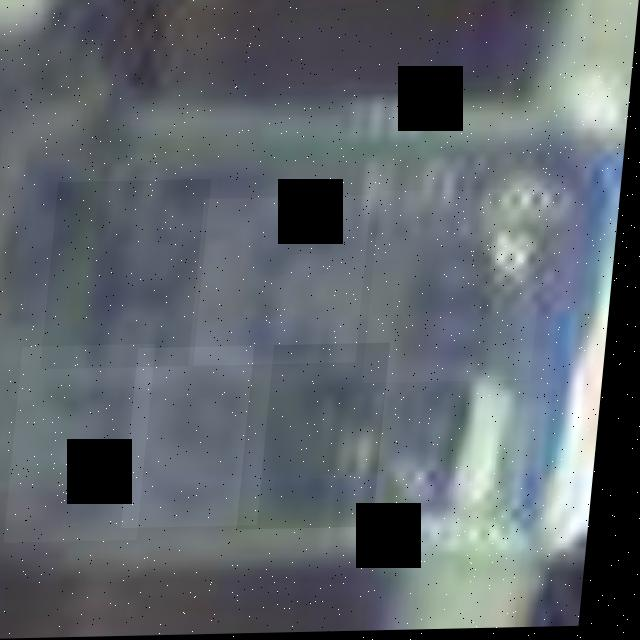0: (15, 345, 163, 543), (247, 345, 397, 531)
9: (132, 347, 281, 529)
B: (370, 190, 553, 385)
N: (48, 180, 215, 370), (196, 197, 376, 367)
